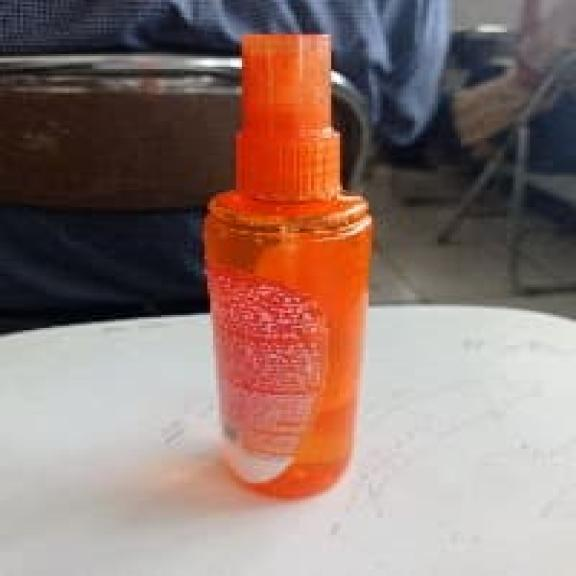Plastik: (202, 28, 375, 502)
